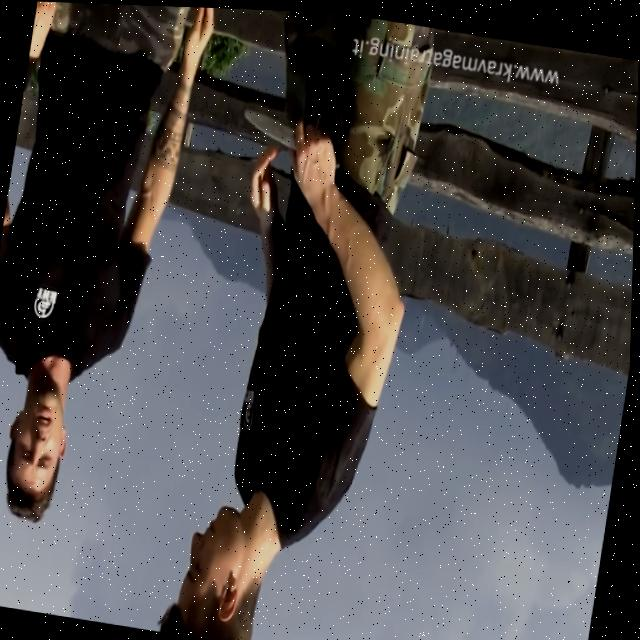knife: (239, 106, 299, 151)
